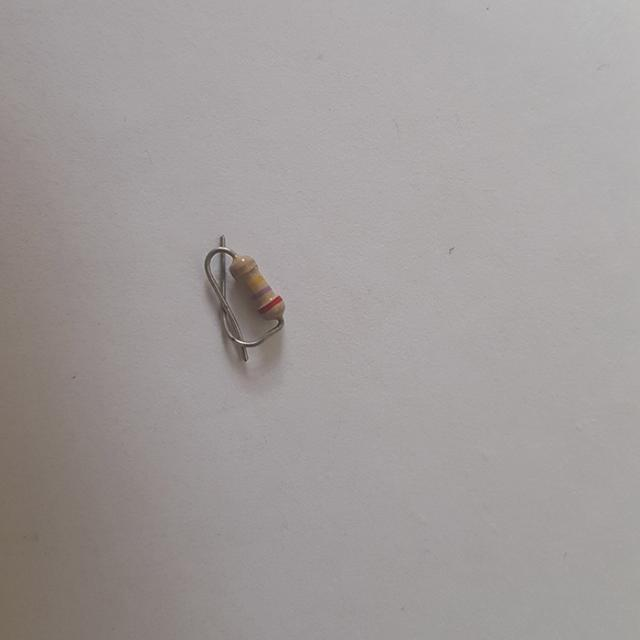gold: (232, 260, 253, 271)
red: (258, 295, 281, 312)
resistor: (216, 238, 305, 336)
violet: (252, 285, 272, 296)
yellow: (247, 274, 264, 286)
